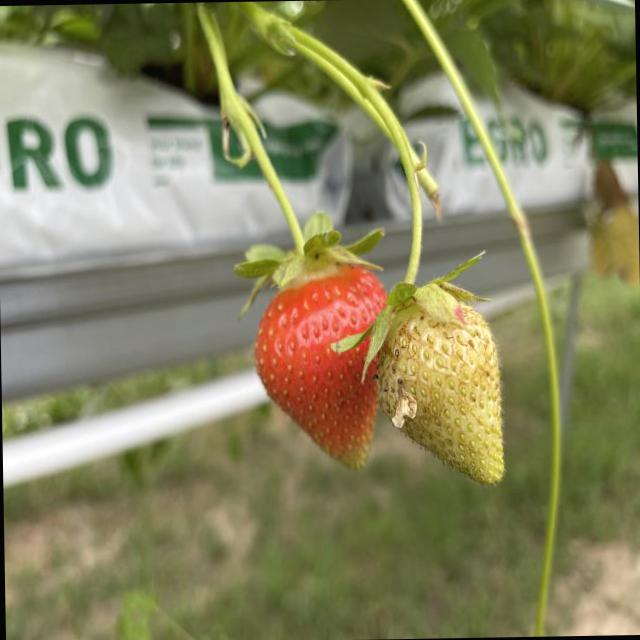stem: (199, 6, 380, 308), (350, 81, 465, 369)
strawberryNR: (376, 304, 503, 483)
strawberryR: (253, 266, 377, 467)
